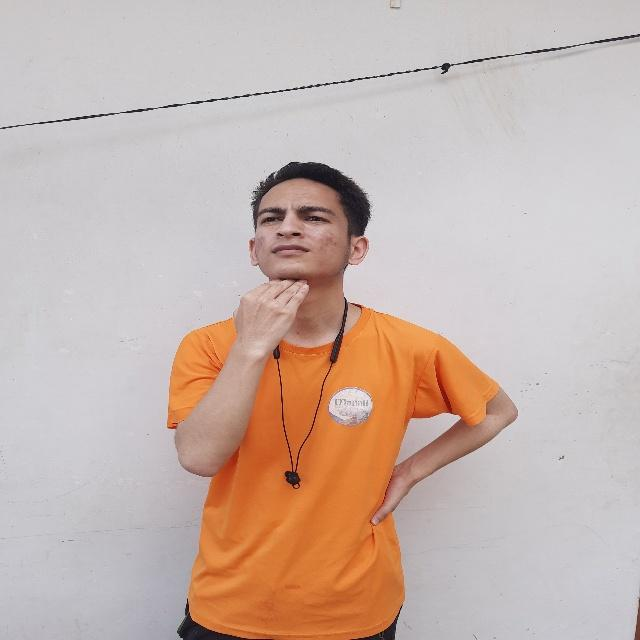Chin Flick: (232, 152, 382, 357)
